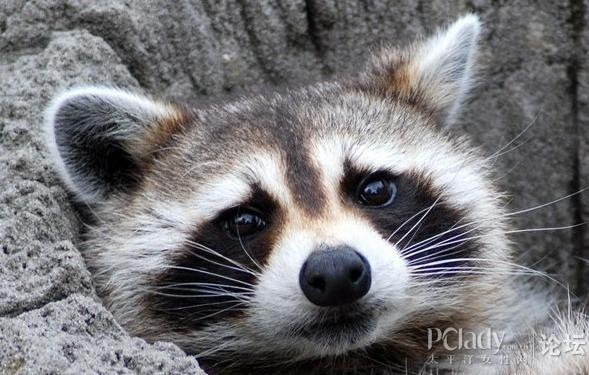raccoon: (36, 9, 589, 372)
